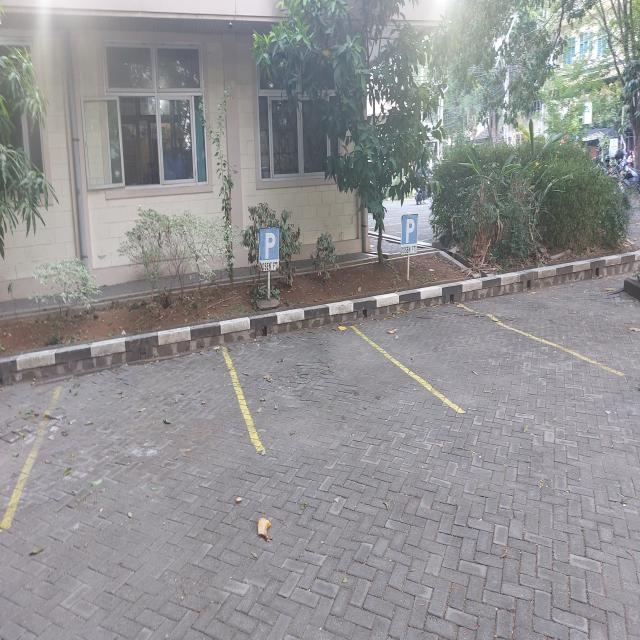empty: (2, 344, 260, 524), (225, 324, 460, 454), (356, 304, 621, 410), (460, 272, 640, 378)
